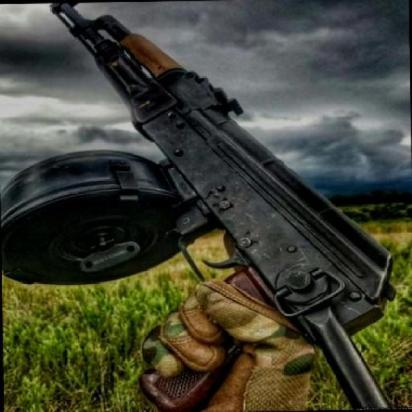Gun: (26, 0, 384, 377)
